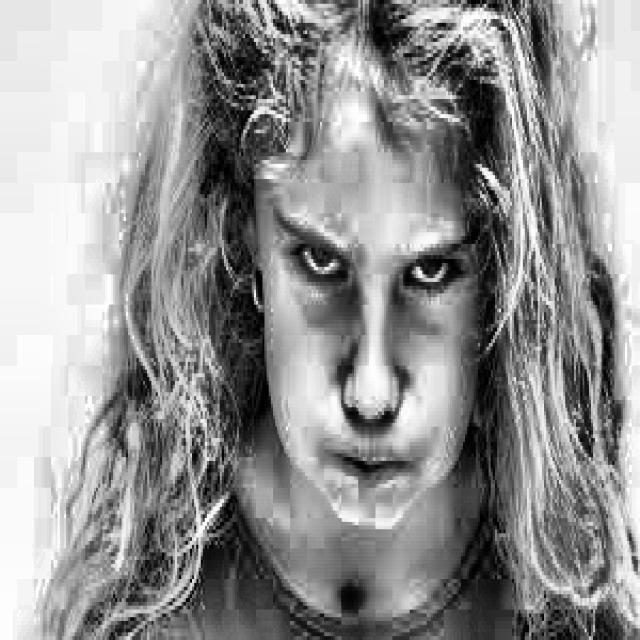angry: (170, 0, 549, 550)
